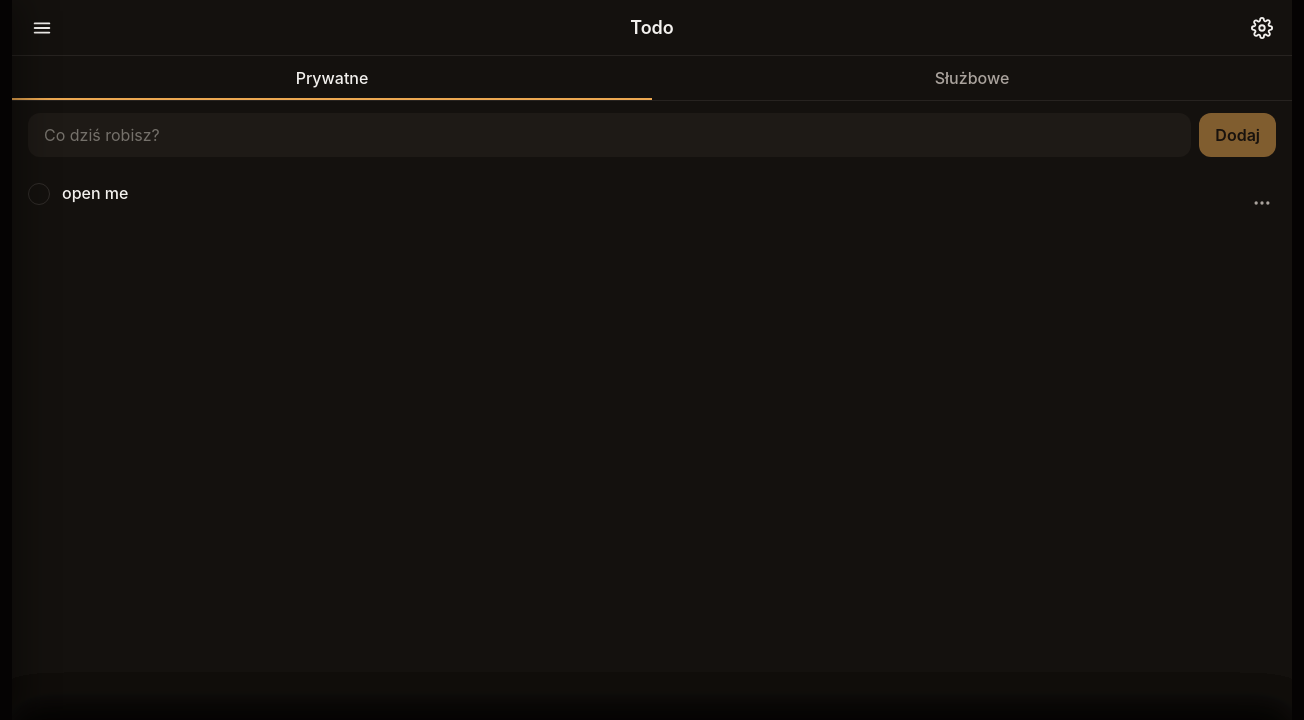
Test: MainList › overflow menu, edit, and delete › clicking Edytuj closes the menu and renders the row in edit mode
Click the button named "Więcej akcji". click: (1262, 203)
box: [1240,181,1284,225]
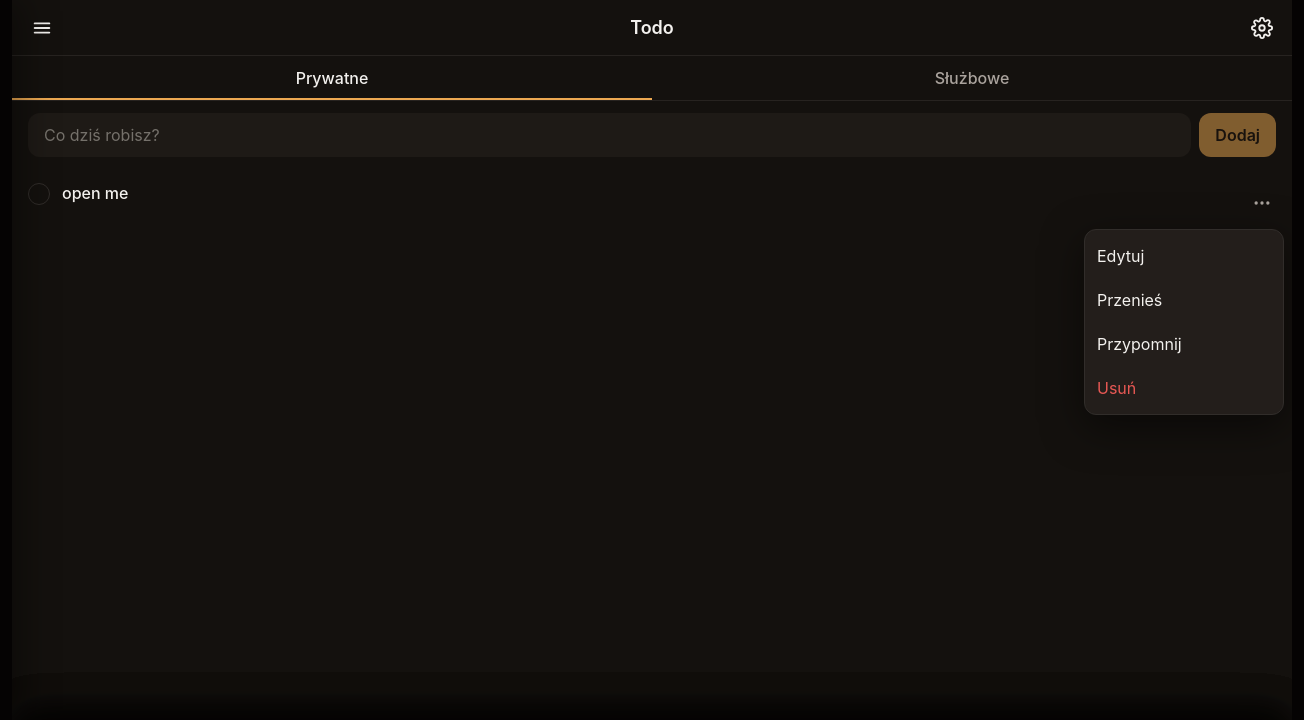
Click the menu item "Edytuj". click: (1184, 256)
box: [1085,234,1283,278]
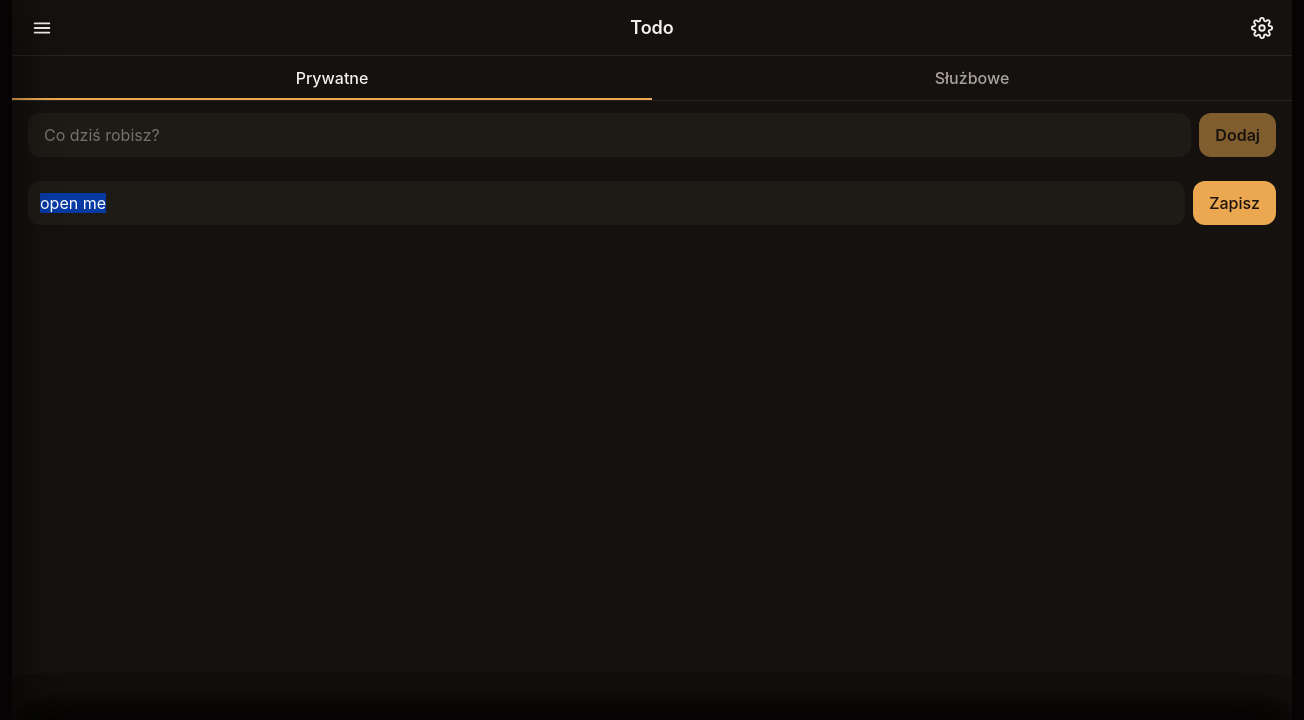
Check: the menu item "Przypomnij" is gone
Check: the 2nd field holds "open me", box [28,181,1185,225]
